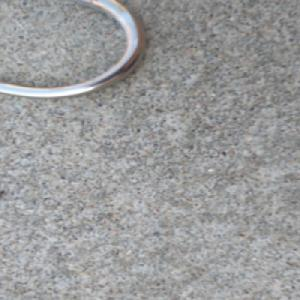ClampPart: (0, 0, 153, 102)
